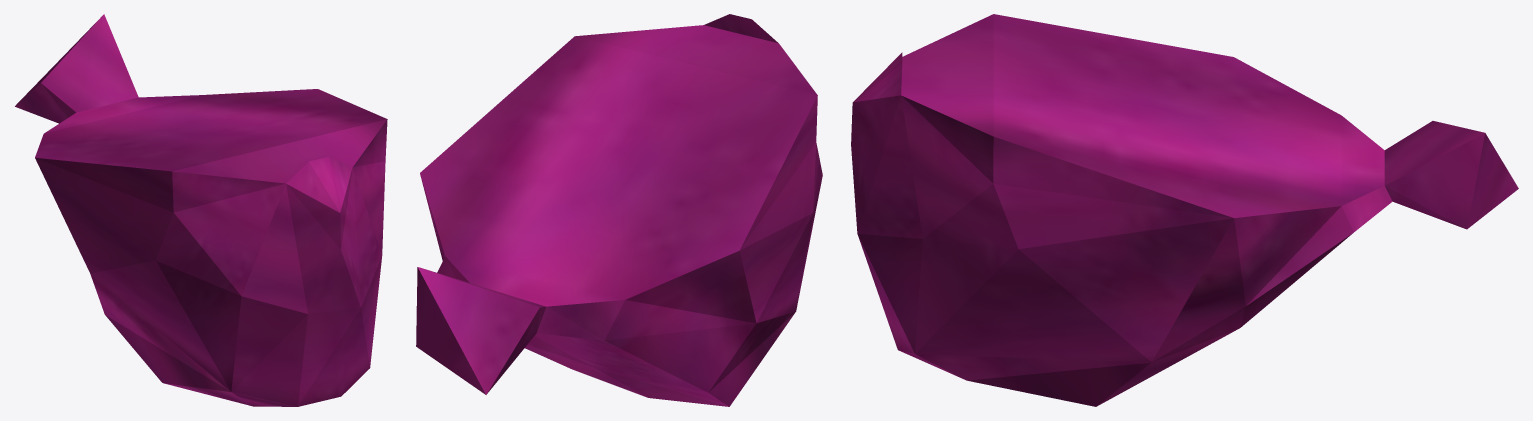
Rendered from CHUSTA_ROZ.glb.
3 views of the same model, side by side, from view 1: azimuth 30°, elevation 25°; view 2: azimuth 150°, elevation 25°; view 3: azimuth 270°, elevation 25° (orthographic). The views are drawn at different scales.
Parts seen in each view (by area): view 1: CHUSTA_ROZ; view 2: CHUSTA_ROZ; view 3: CHUSTA_ROZ.
Boxes of the visible parts, x1,y1,x2,y2 form: CHUSTA_ROZ: [15, 14, 387, 406]; CHUSTA_ROZ: [416, 14, 822, 406]; CHUSTA_ROZ: [851, 14, 1518, 406].
Size of the model in its own units: 0.1928 by 0.18 by 0.3386.
1 material, 1 textured.
